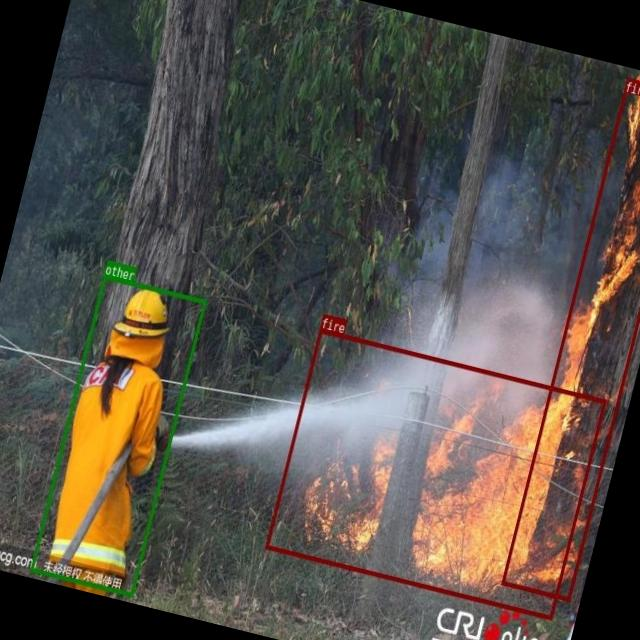fire: (264, 328, 606, 619), (500, 77, 640, 600)
